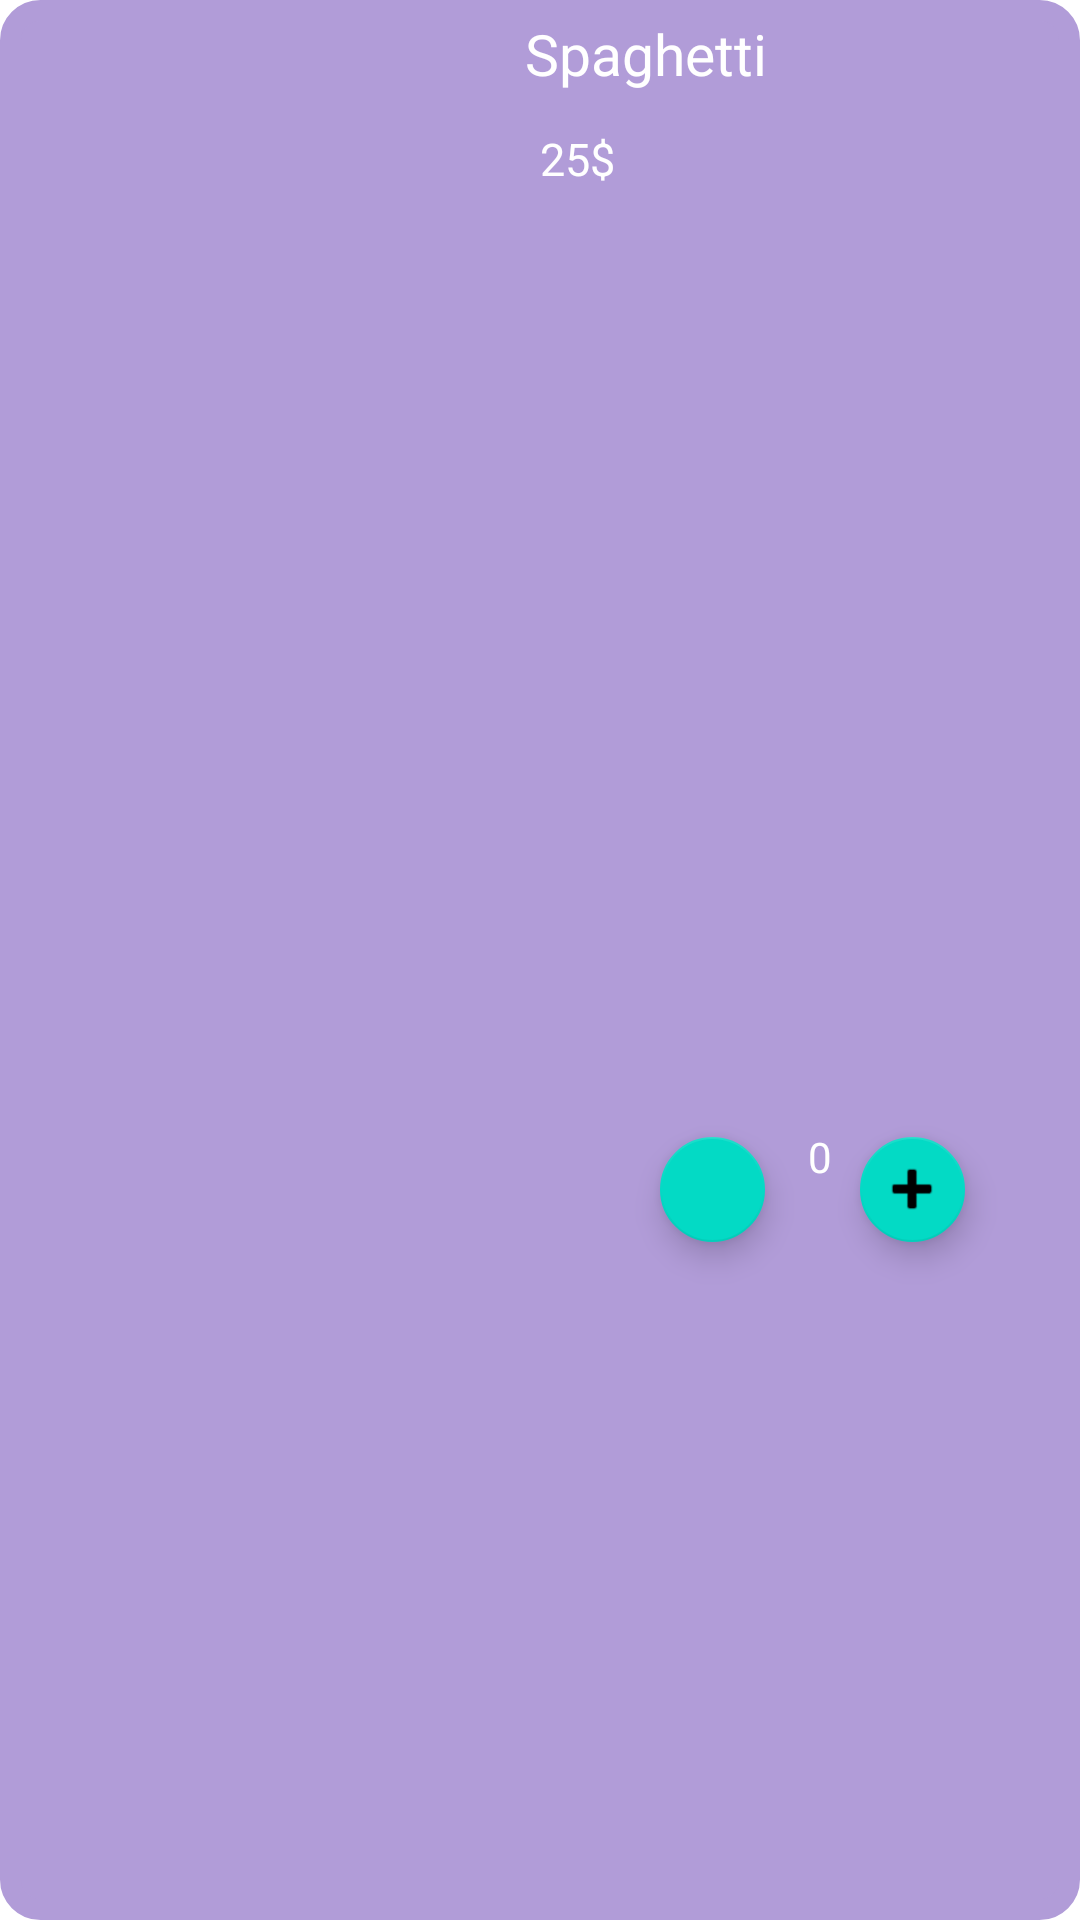

Where to tap for icons on this 1080x1920 app screen, as point (x, y):
add: point (913, 1193)
